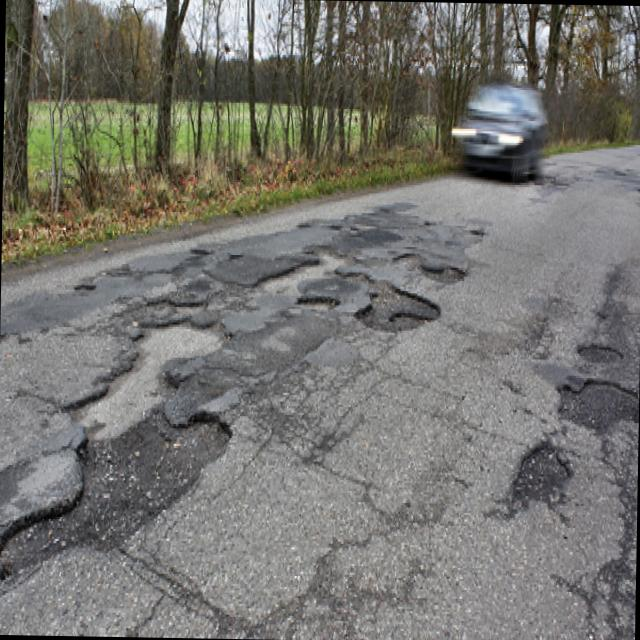Potholes: (0, 368, 251, 611), (330, 245, 450, 366), (489, 410, 577, 544), (546, 339, 640, 458), (263, 218, 363, 315)
